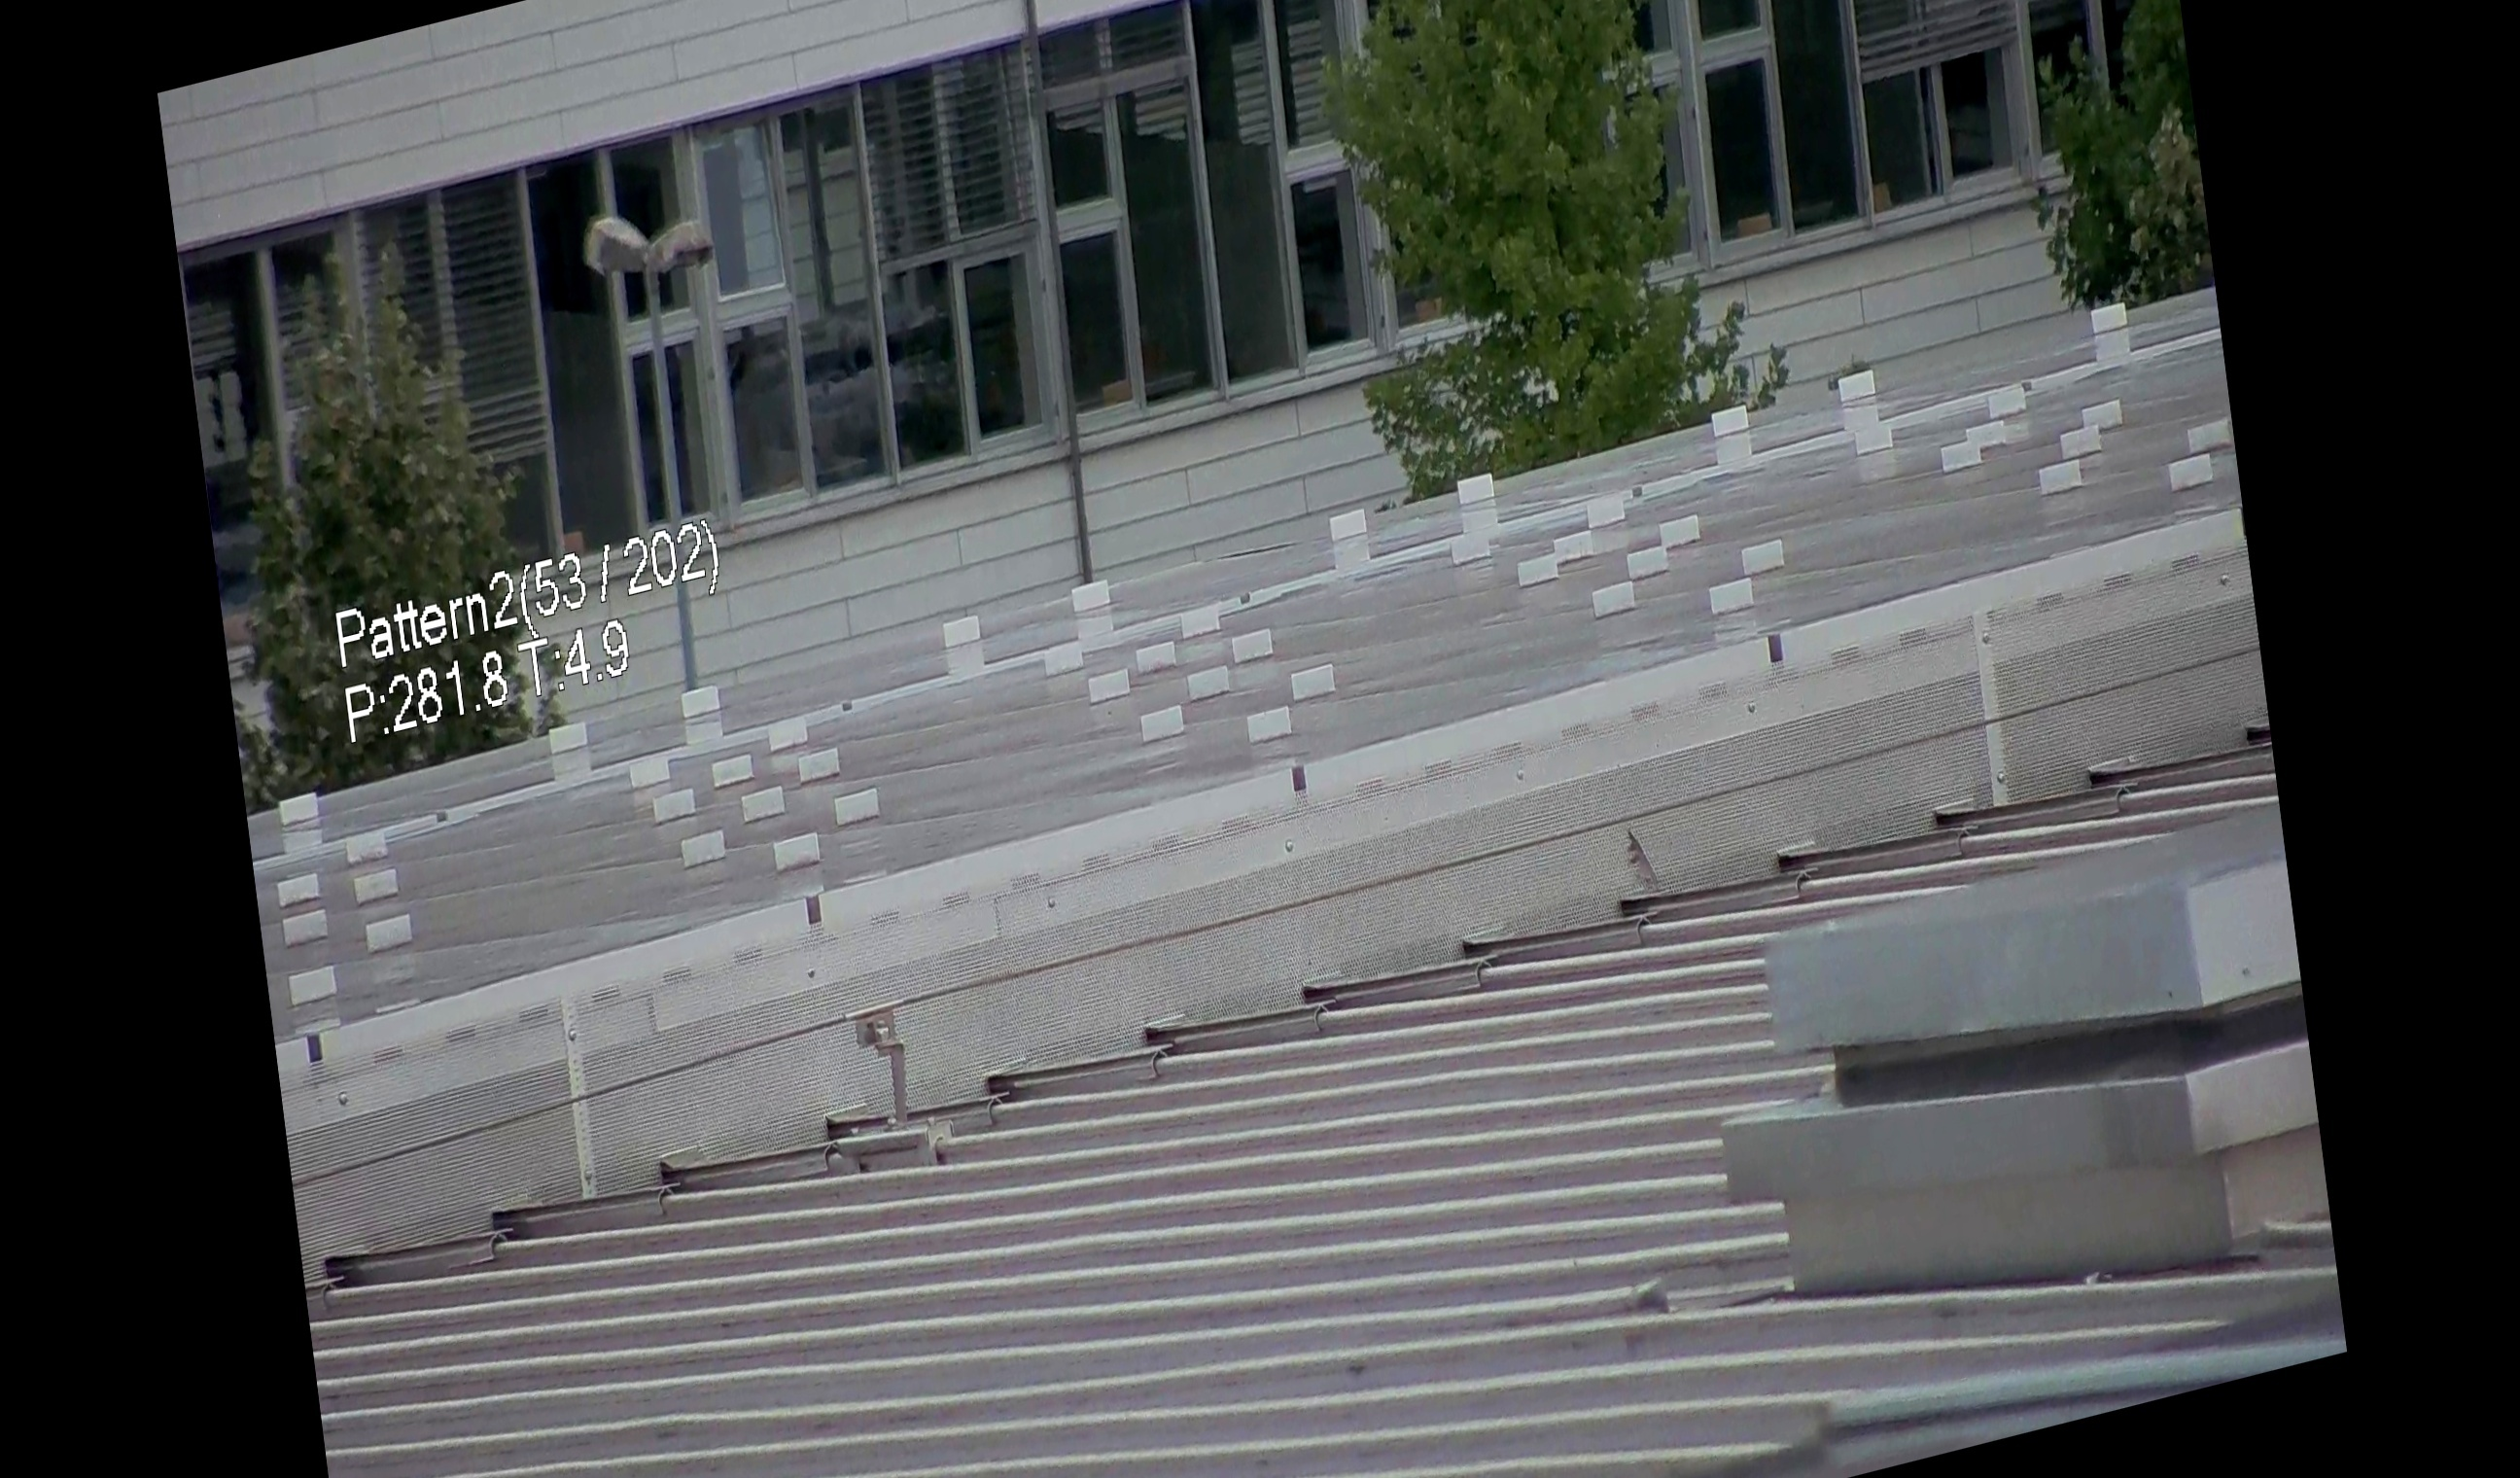Other: (1611, 797, 1679, 927)
